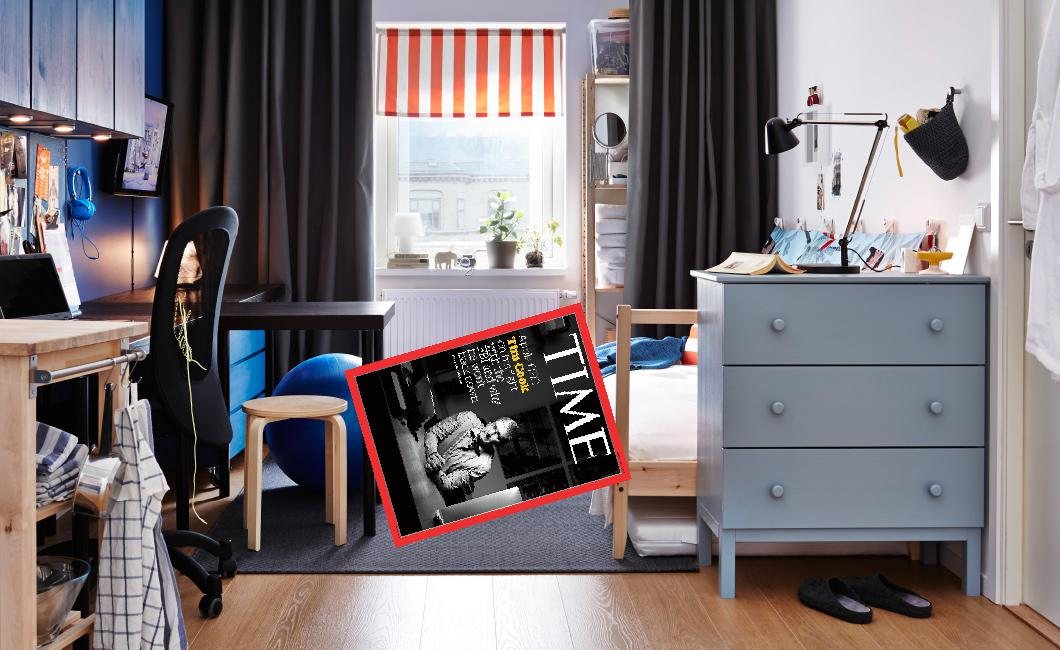times: (340, 301, 632, 547)
